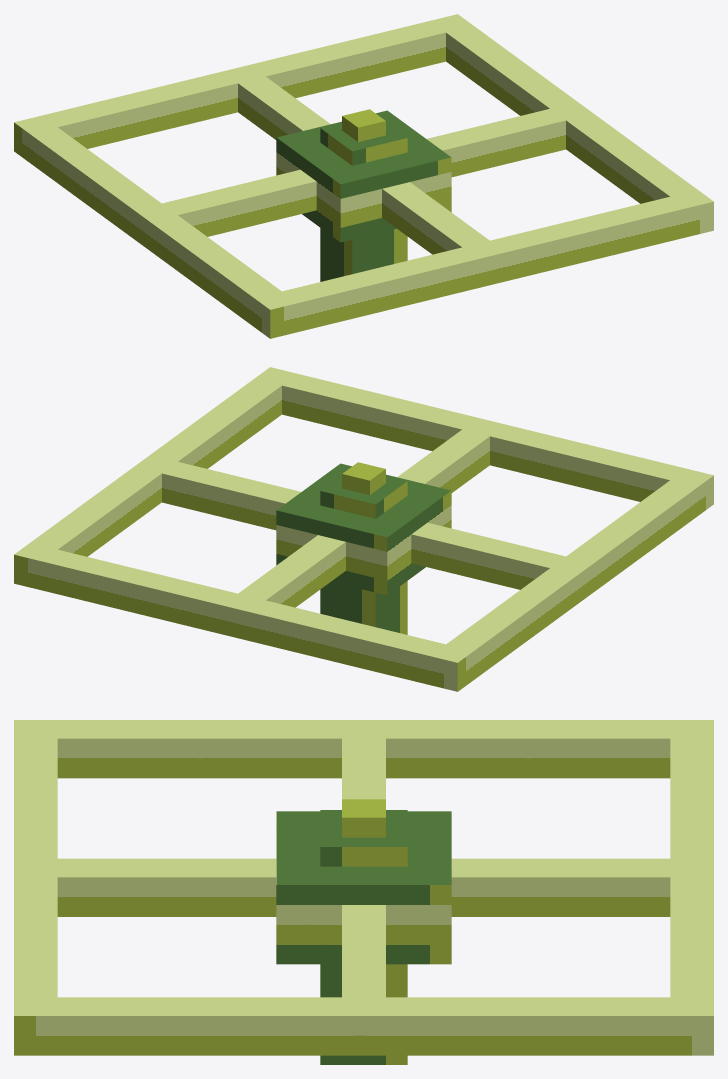
File: sewer_valveao.fezao.glb
3 renders of one model, top to bottom at view 1: azimuth 30°, elevation 25°; view 2: azimuth 150°, elevation 25°; view 3: azimuth 270°, elevation 25°, orthographic. The views are drawn at different scales.
Visible parts, largest first — view 1: SEWER_VALVEAO; view 2: SEWER_VALVEAO; view 3: SEWER_VALVEAO.
Part boxes in pixels (x1,y1,x2,y2): SEWER_VALVEAO: (14, 14, 713, 338); SEWER_VALVEAO: (14, 367, 713, 691); SEWER_VALVEAO: (14, 720, 713, 1064).
Bounding box in the file's own units: 2 × 0.75 × 2.
Materials: 1 (1 with a texture image).
